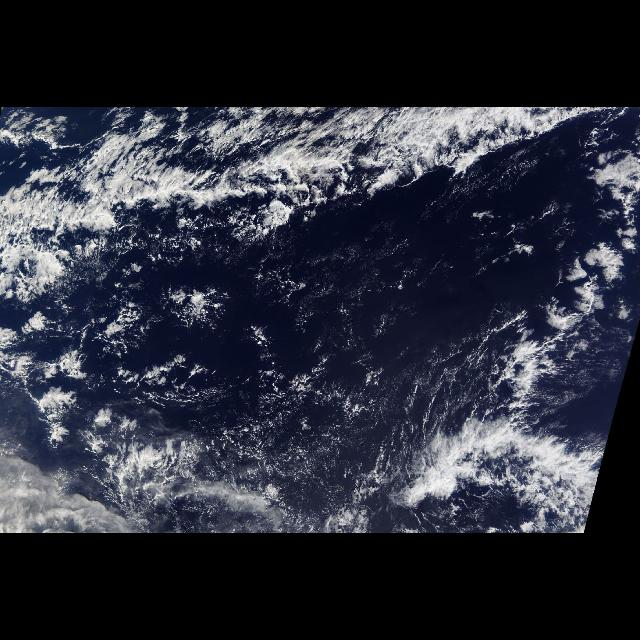Fish: (1, 154, 475, 308)
